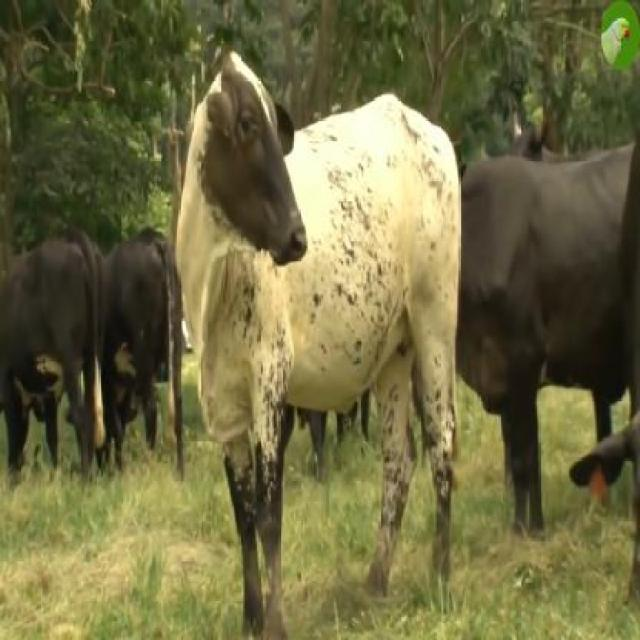Cow: (176, 51, 462, 634)
